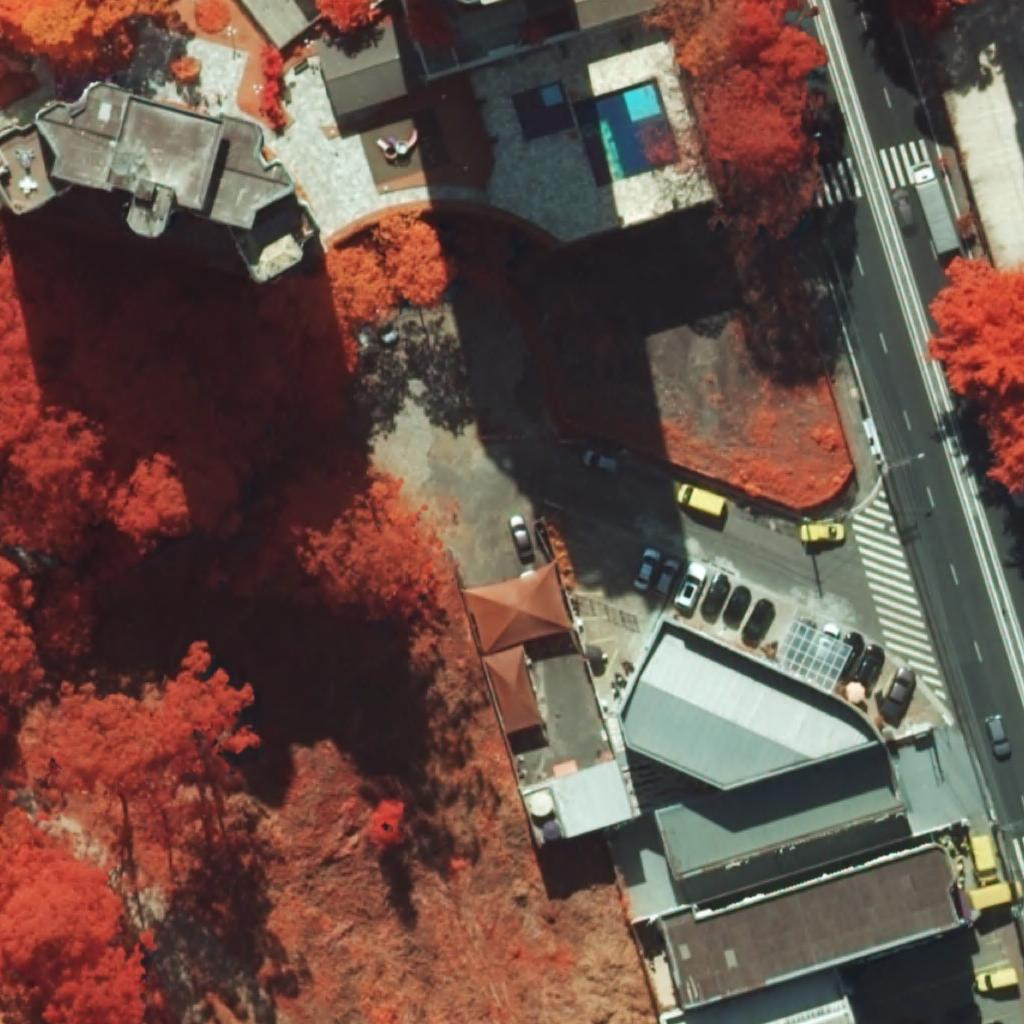pool: (572, 78, 681, 188)
